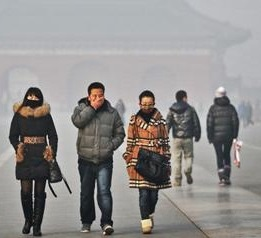person: (70, 80, 124, 237), (8, 86, 61, 238), (123, 88, 176, 234), (163, 88, 200, 188), (205, 85, 241, 187), (241, 98, 254, 128), (115, 96, 128, 118)
